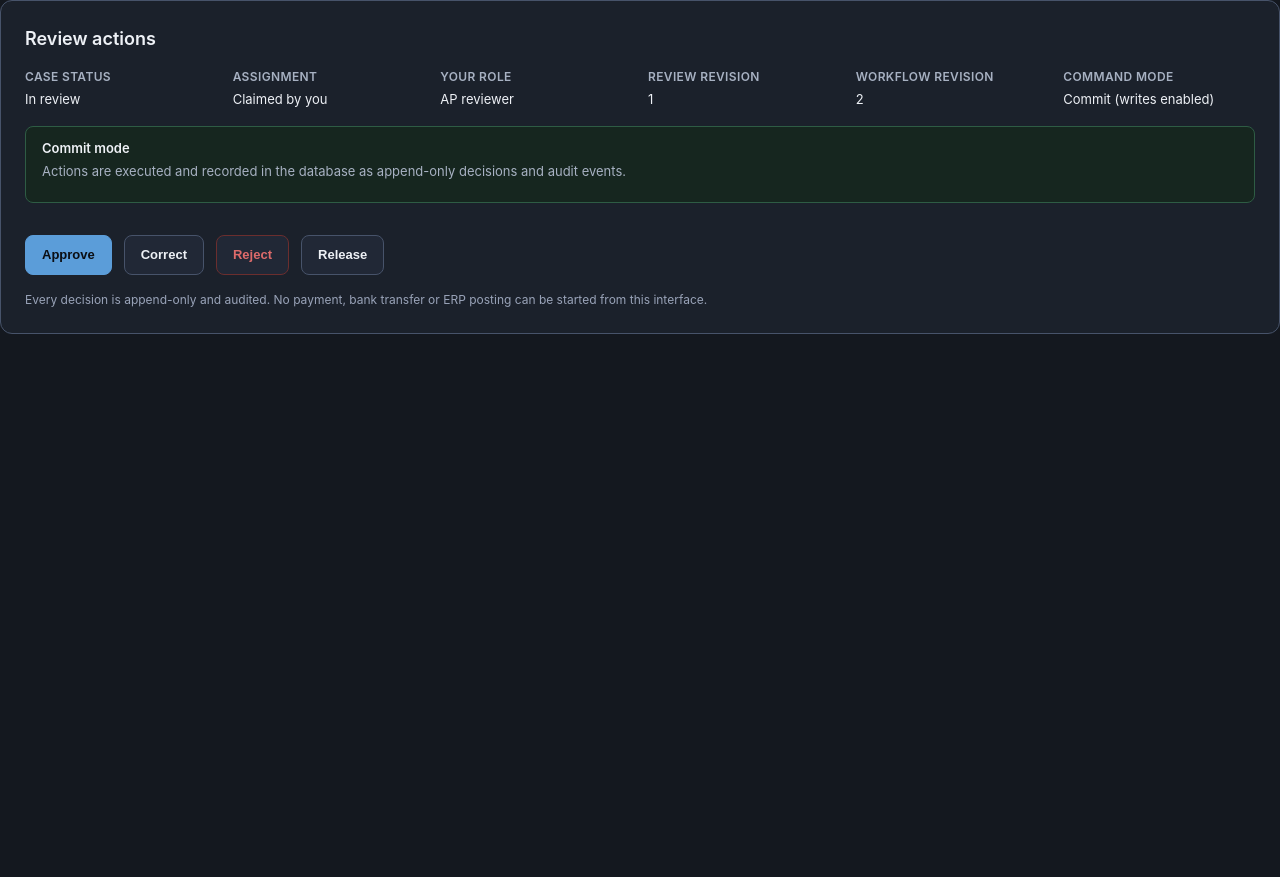
Scenario: correction editor (task §13) › validates inline and moves focus to an error summary without discarding the form
Click the button "Correct" at (164, 254), box [124,234,204,274]
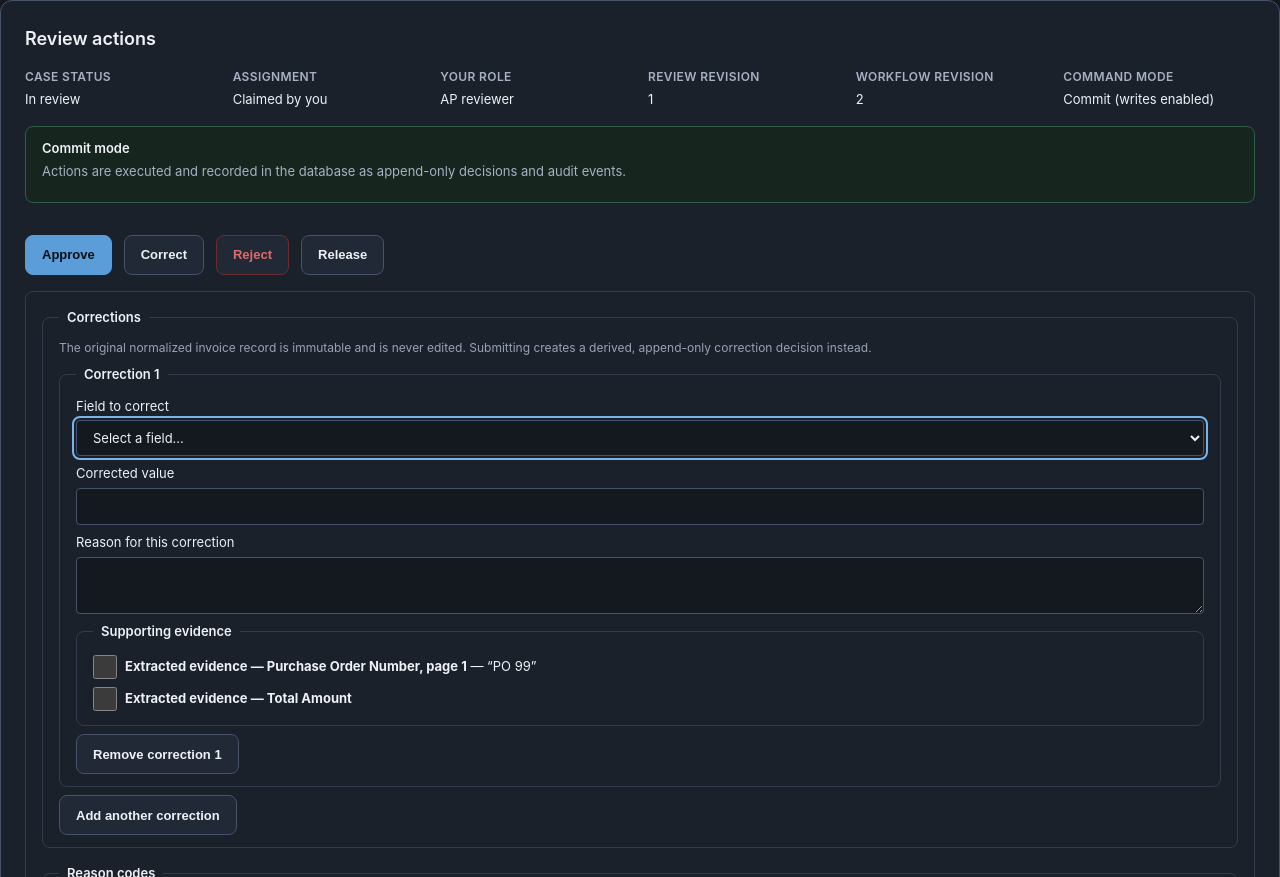
Select "Total Amount (header)" in the dropdown labelled "Field to correct" at (640, 438), box [76,420,1204,456]
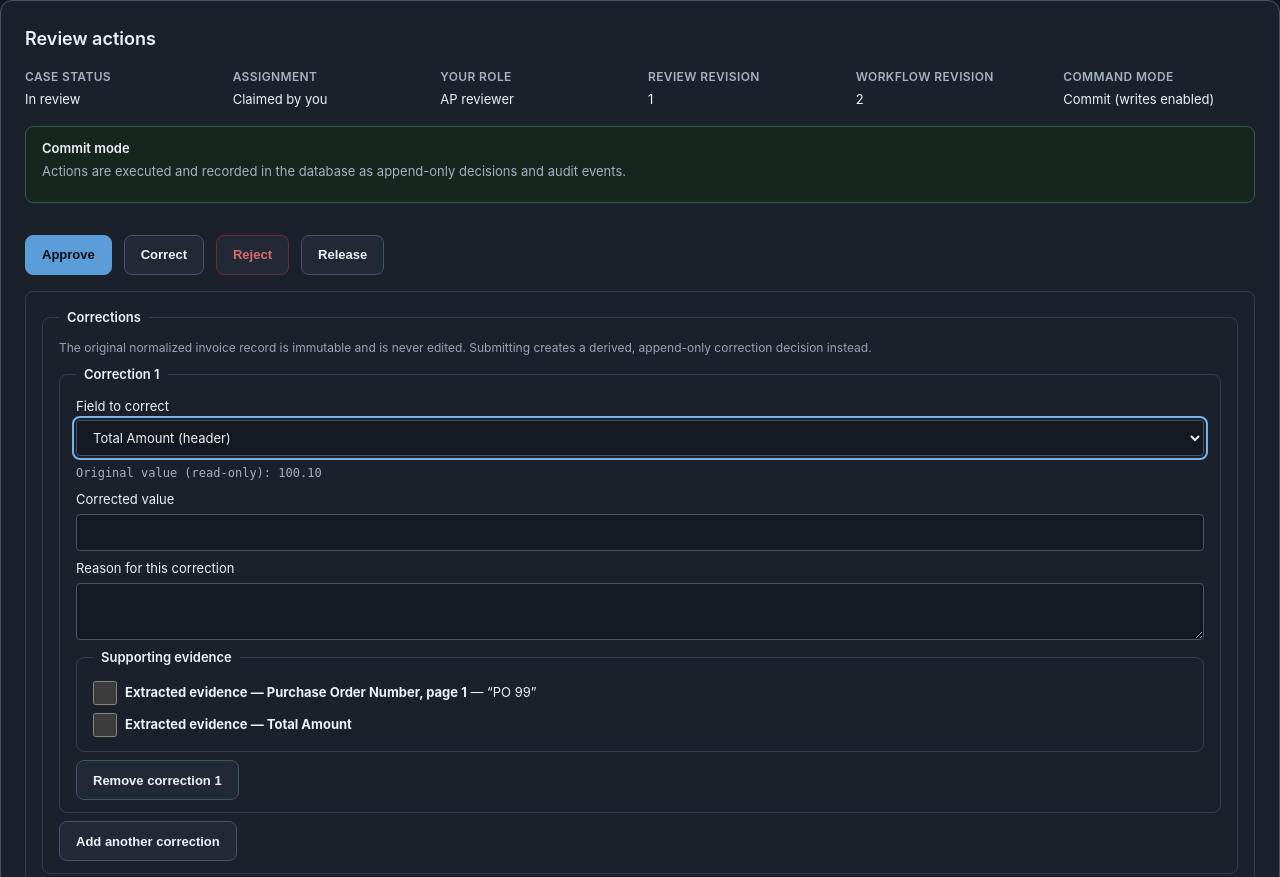
Type "12.3.4" into the field labelled "Corrected value" at (640, 532), box [76,514,1204,551]
(page scrolled)
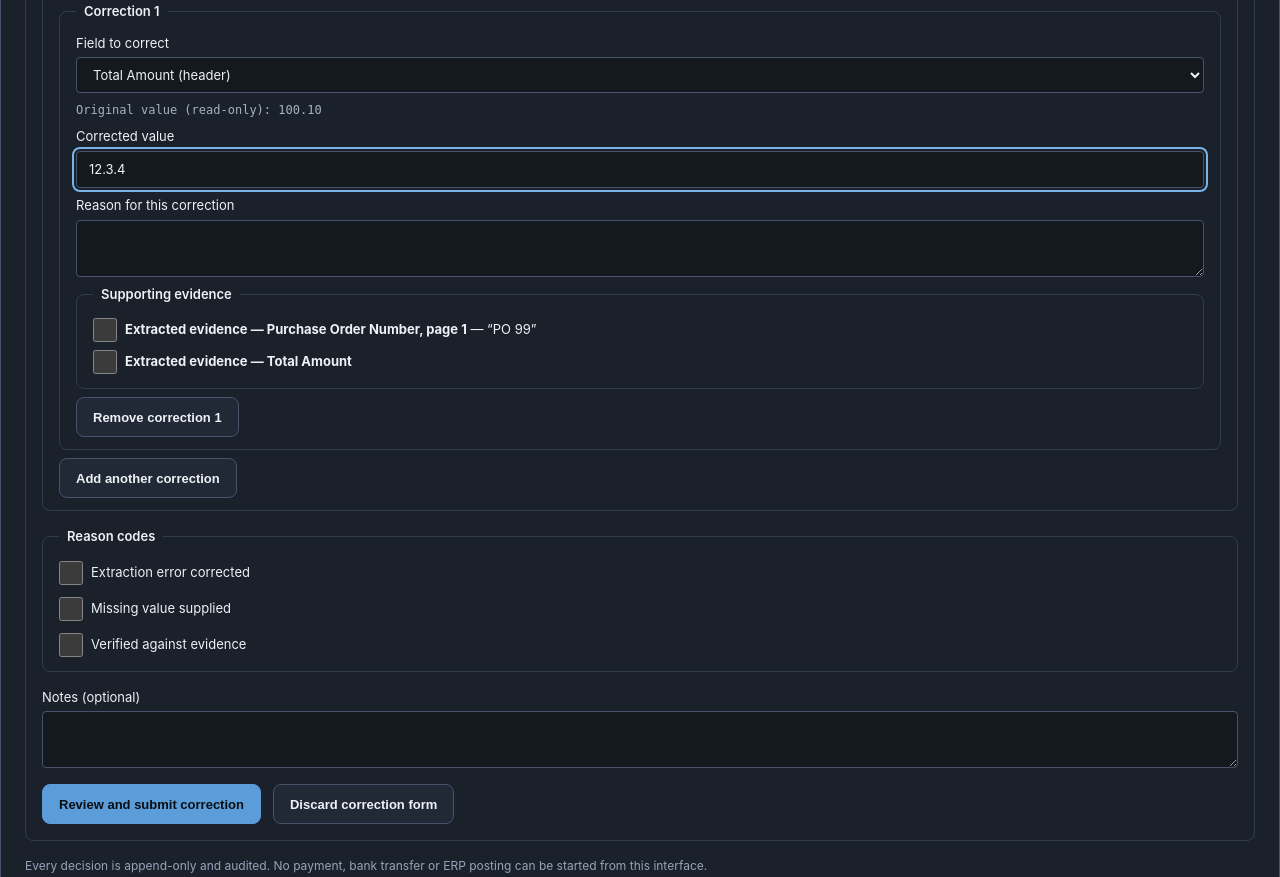
Click the button "Review and submit correction" at (151, 804), box [42,784,261,824]
(page scrolled)
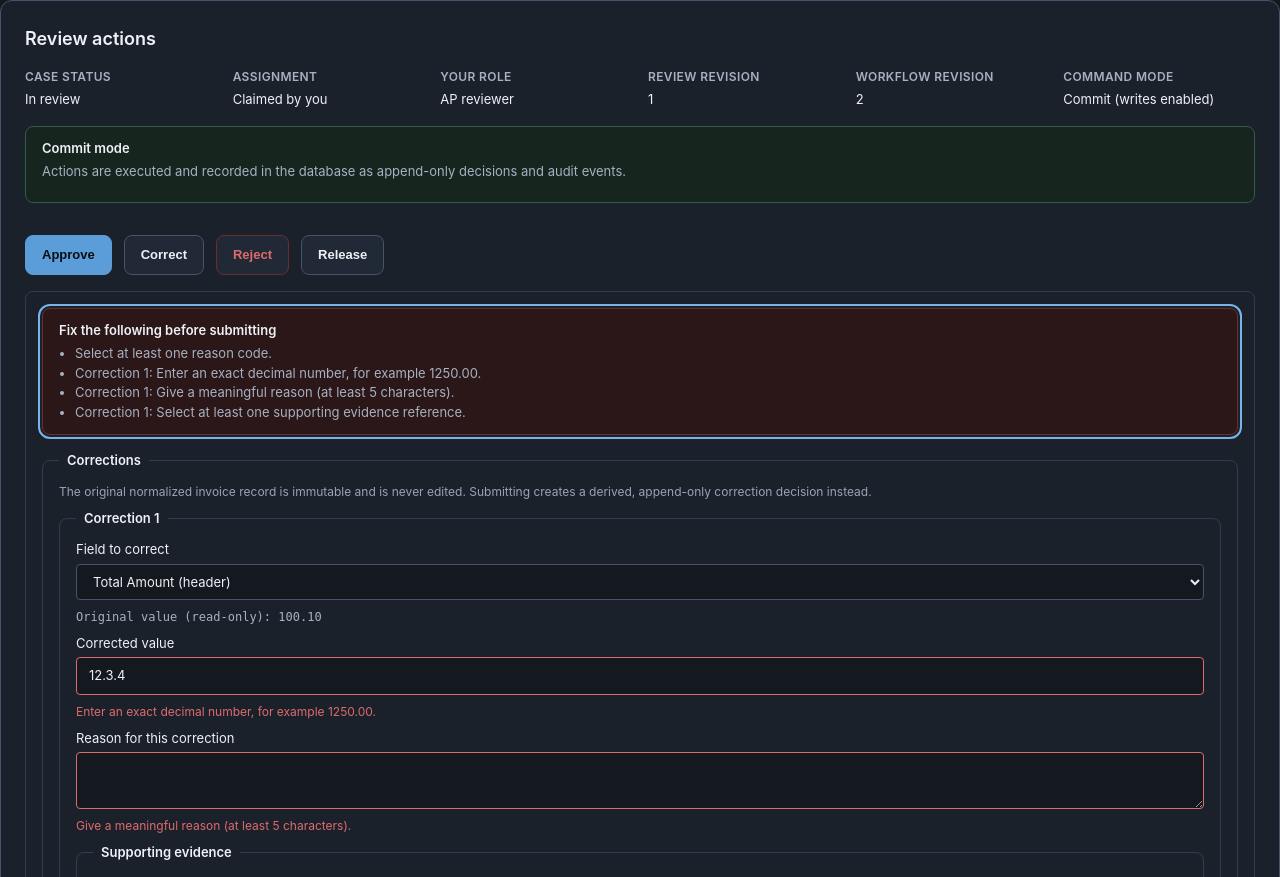
Result: the message with test id "correction-error-summary" shows "exact decimal" at [156,364,481,380]
Result: the message with test id "correction-error-summary" shows "meaningful reason" at [156,384,454,400]
Result: the message with test id "correction-error-summary" shows "evidence" at [156,404,466,420]
